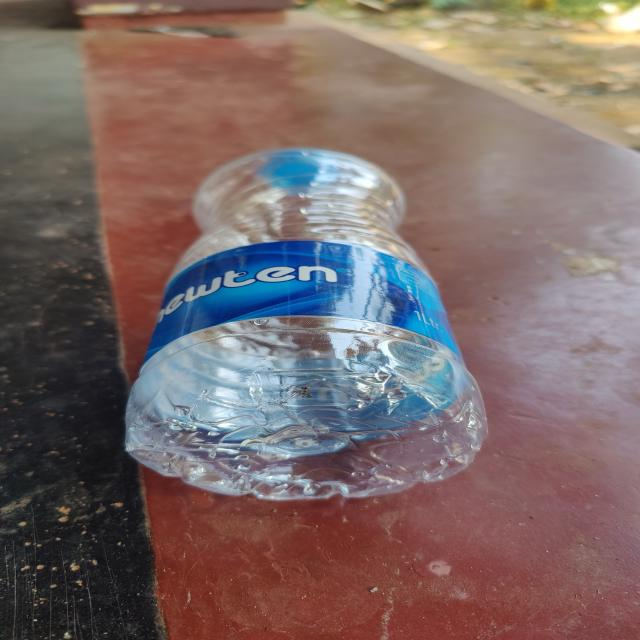plastic: (120, 142, 492, 504)
